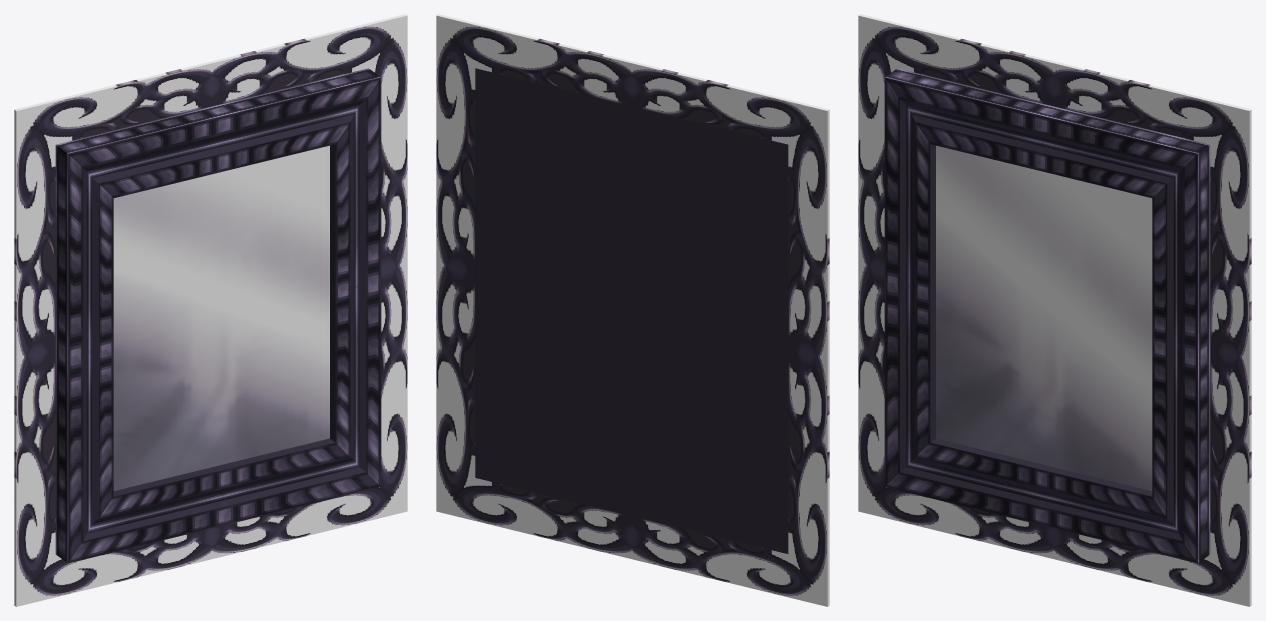
File: BaroqueMirror_HD.fbx
The picture shows the model from 3 angles, left to right: view 1: azimuth 30°, elevation 25°; view 2: azimuth 150°, elevation 25°; view 3: azimuth 330°, elevation 25°; orthographic projection.
Visible parts, largest first — view 1: BaroqueMirror; view 2: BaroqueMirror; view 3: BaroqueMirror.
Part boxes in pixels (x1,y1,x2,y2): BaroqueMirror: (14, 14, 407, 606); BaroqueMirror: (436, 14, 829, 606); BaroqueMirror: (858, 14, 1251, 606).
Size of the model in its own units: 0.64 by 0.7748 by 0.0417.
